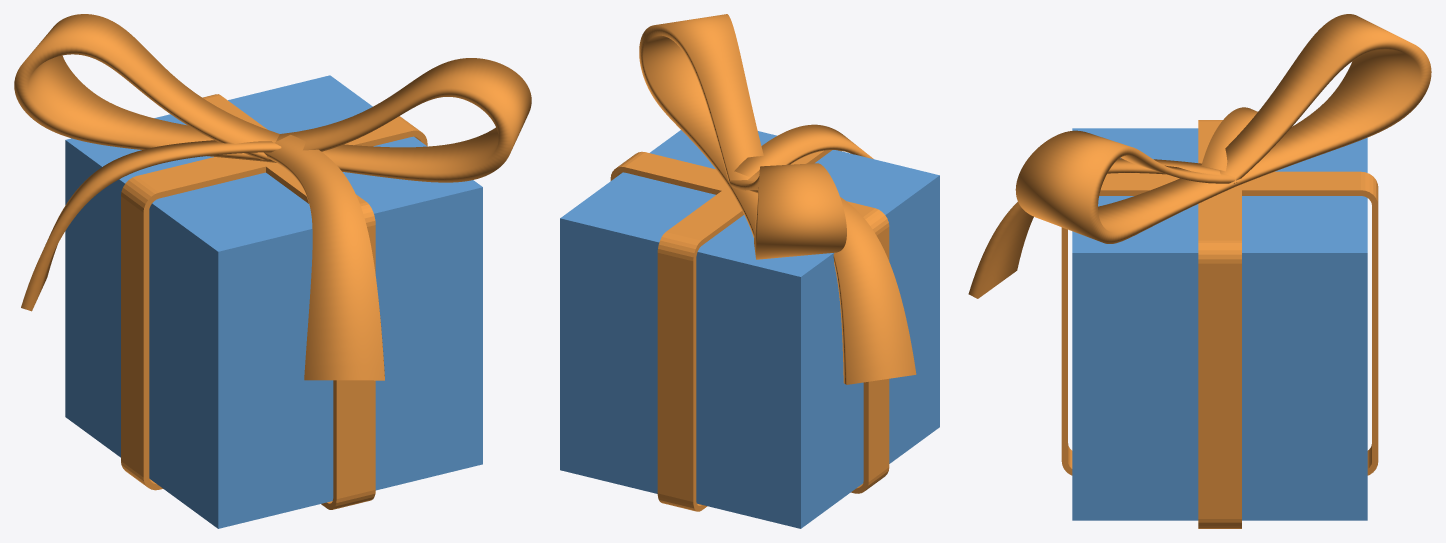
Rendered from present.gltf.
3 views of the same model, side by side, from view 1: azimuth 30°, elevation 25°; view 2: azimuth 150°, elevation 25°; view 3: azimuth 270°, elevation 25° (orthographic). The views are drawn at different scales.
Parts seen in each view (by area): view 1: Gift, topribbons, ribbons, NurbsPath.001, NurbsPath; view 2: Gift, topribbons, ribbons, NurbsPath, NurbsPath.001; view 3: Gift, topribbons, ribbons, NurbsPath.001, NurbsPath.
Part boxes in pixels (<box>): Gift: <box>65,75,482,528</box>; topribbons: <box>14,14,531,182</box>; ribbons: <box>121,94,427,509</box>; NurbsPath.001: <box>264,135,384,380</box>; NurbsPath: <box>21,140,281,311</box>; Gift: <box>560,130,939,528</box>; topribbons: <box>639,14,846,259</box>; ribbons: <box>610,150,889,511</box>; NurbsPath: <box>747,170,916,384</box>; NurbsPath.001: <box>734,124,873,177</box>; Gift: <box>1072,128,1367,520</box>; topribbons: <box>1015,14,1431,243</box>; ribbons: <box>1061,120,1378,528</box>; NurbsPath.001: <box>968,158,1220,298</box>; NurbsPath: <box>1201,107,1257,171</box>.
Bounding box in the file's own units: 1.52 × 1.41 × 1.55.
Materials: 1 (1 with a texture image).
